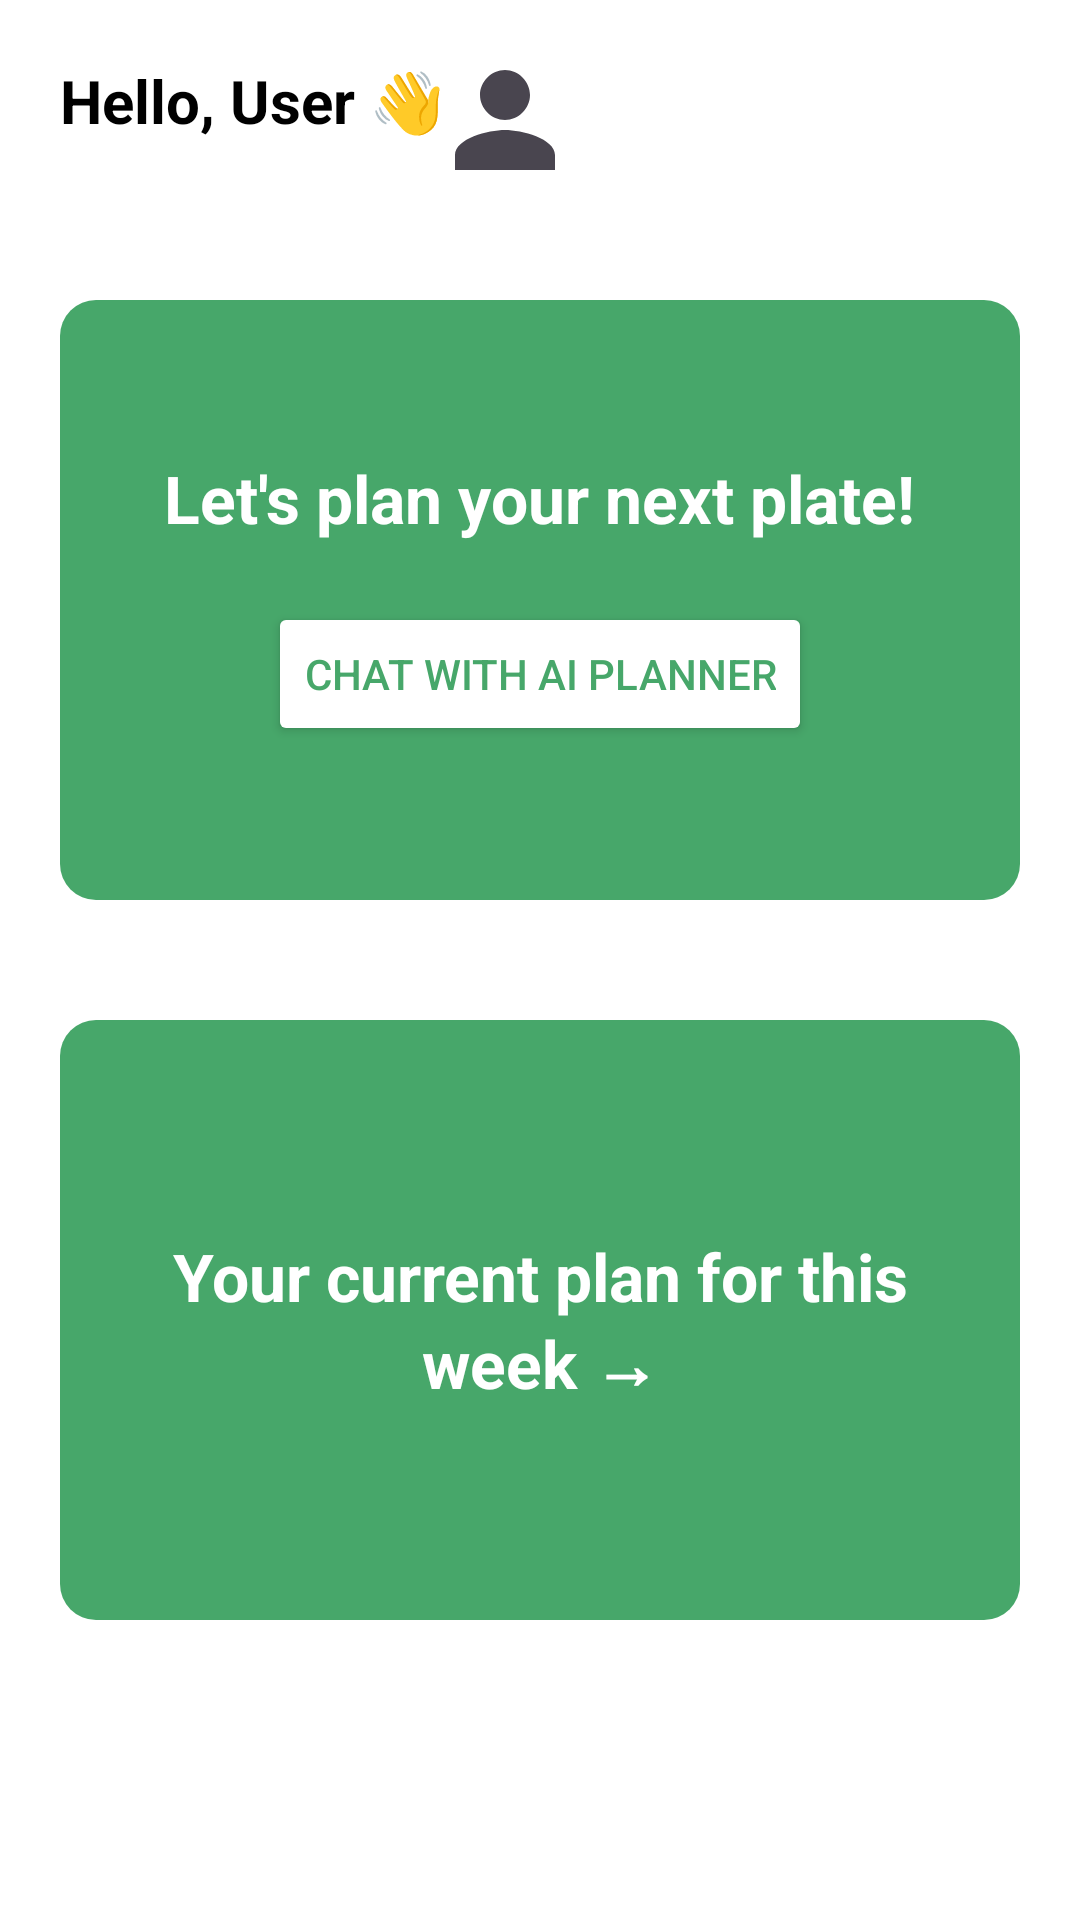

Screen size 1080 × 1920. Icon name, then its center in pixels as point (x, y):
Profile: point (505, 120)
